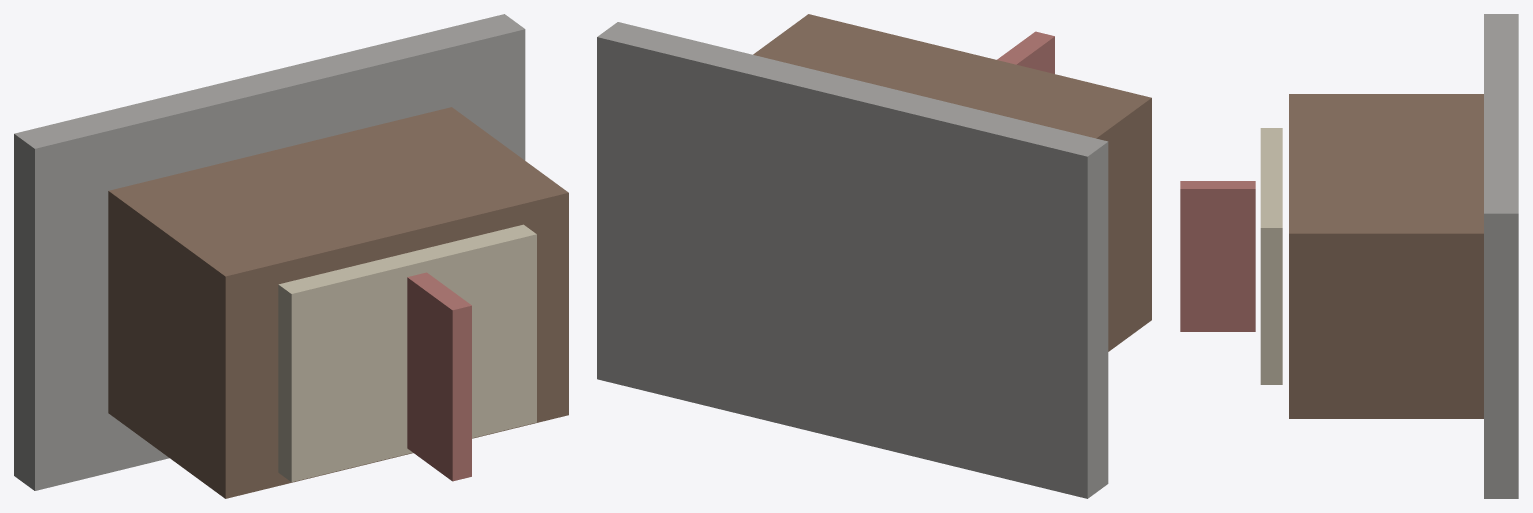
The picture shows the model from 3 angles, left to right: view 1: azimuth 30°, elevation 25°; view 2: azimuth 150°, elevation 25°; view 3: azimuth 270°, elevation 25°; orthographic projection. The views are drawn at different scales.
Parts seen in each view (by area): view 1: H18_part_1, H18_part_0, H18_part_2, H18_part_3; view 2: H18_part_0, H18_part_1, H18_part_3; view 3: H18_part_1, H18_part_0, H18_part_3, H18_part_2.
Boxes of the visible parts, left/top/right/bottom form: H18_part_1: left=108, top=107, right=568, bottom=498; H18_part_0: left=14, top=14, right=525, bottom=490; H18_part_2: left=278, top=224, right=536, bottom=482; H18_part_3: left=407, top=272, right=471, bottom=481; H18_part_0: left=597, top=22, right=1108, bottom=498; H18_part_1: left=753, top=14, right=1151, bottom=351; H18_part_3: left=997, top=31, right=1054, bottom=73; H18_part_1: left=1289, top=94, right=1483, bottom=418; H18_part_0: left=1484, top=14, right=1518, bottom=498; H18_part_3: left=1180, top=181, right=1255, bottom=331; H18_part_2: left=1260, top=128, right=1282, bottom=384.
Size of the model in its own units: 1.5 by 1 by 1.07.
